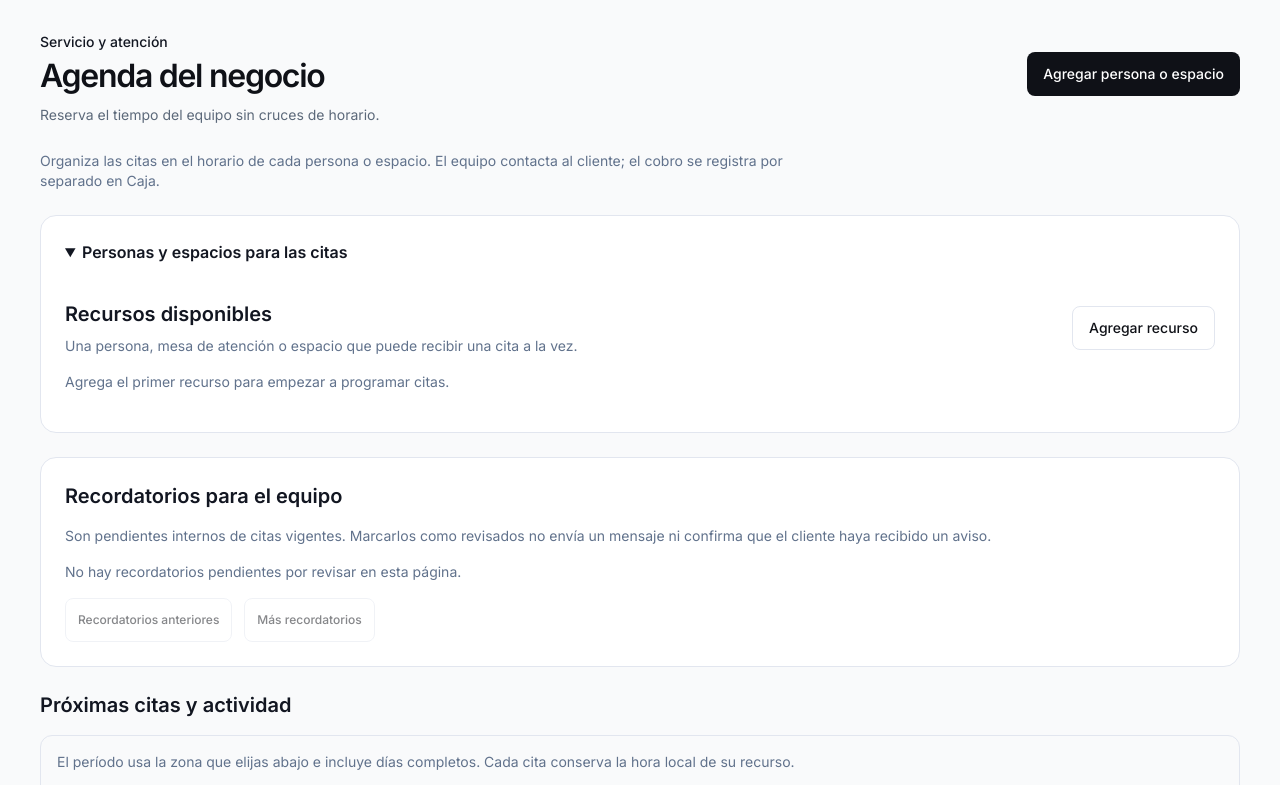
Test: guides an empty agenda directly to adding a person or space and focuses the name
The image size is (1280, 785).
Click the button "Agregar persona o espacio".
click(1134, 74)  # box [1027, 52, 1240, 96]
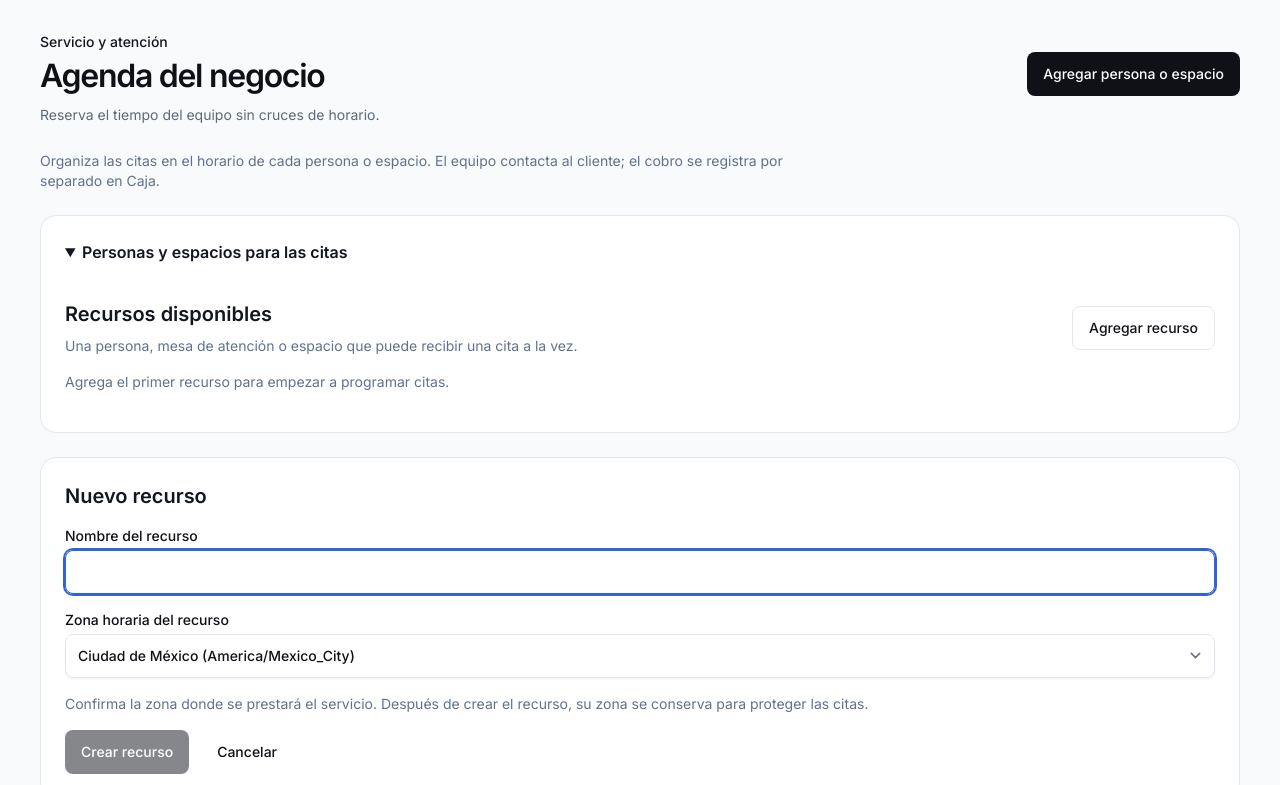
Now the heading "Nuevo recurso" is shown, box [65, 484, 207, 508]
